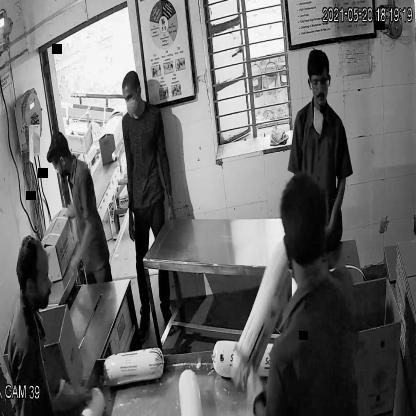goggles: (306, 70, 333, 93)
